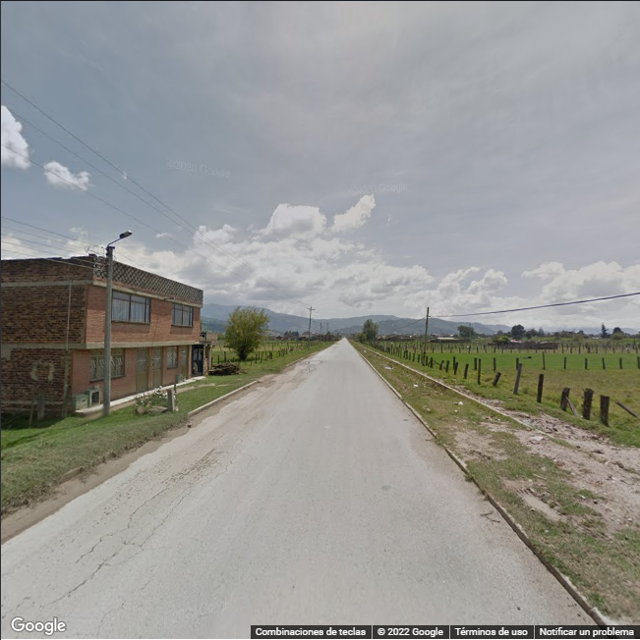D00: (55, 544, 130, 608), (137, 493, 192, 550), (126, 485, 165, 524), (74, 528, 121, 558)
